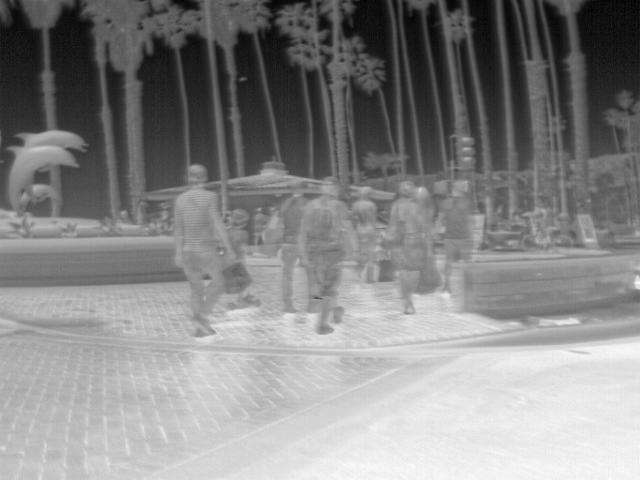person: (170, 161, 231, 341), (304, 174, 350, 336), (388, 181, 434, 312), (272, 180, 311, 309), (435, 178, 477, 293), (351, 184, 381, 270), (226, 205, 250, 269), (535, 206, 561, 252), (253, 206, 269, 250), (414, 184, 432, 214)
